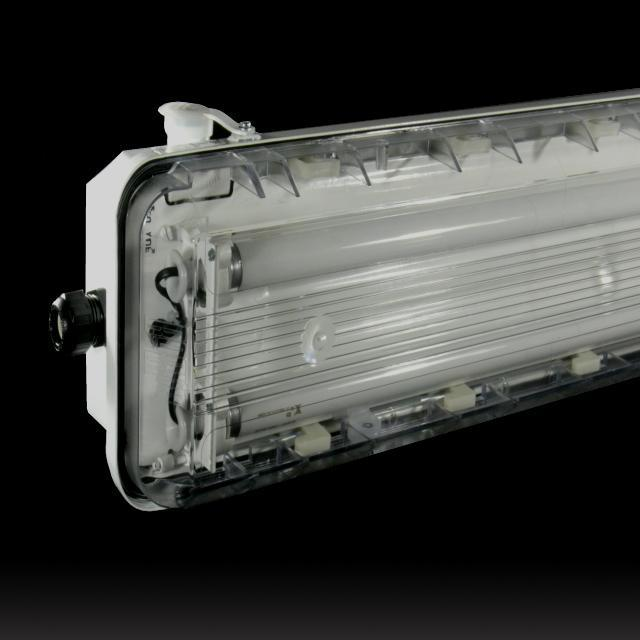Straight-Tube-Fluorescent-Lamp: (186, 272, 640, 446), (184, 174, 640, 298)
